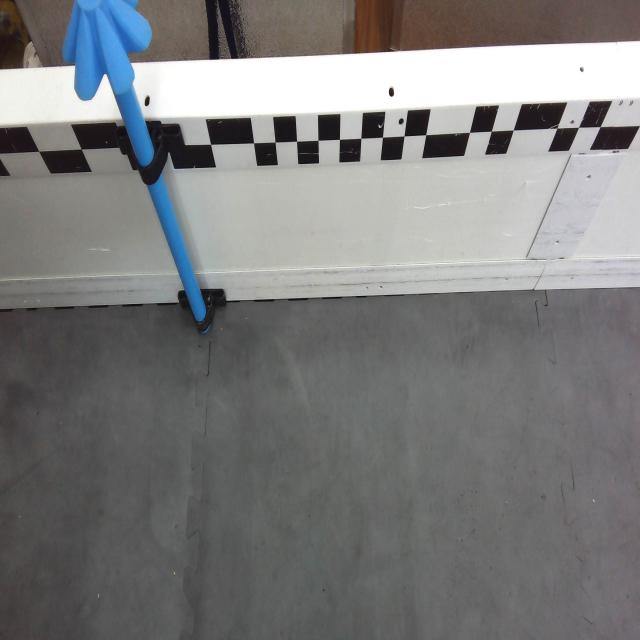zblue-Stake-Head: (63, 1, 154, 99)
